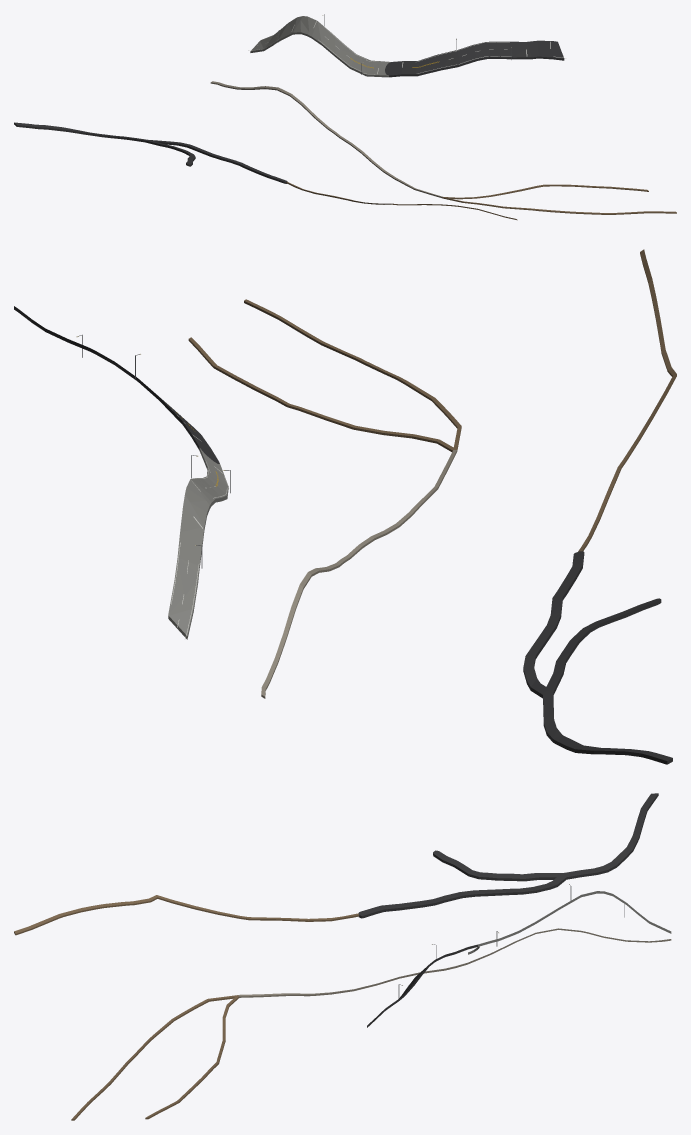
The picture shows the model from 3 angles, top to bottom: view 1: azimuth 30°, elevation 25°; view 2: azimuth 150°, elevation 25°; view 3: azimuth 270°, elevation 25°; orthographic projection. The views are drawn at different scales.
Size of the model in its own units: 295 by 63.58 by 292.
